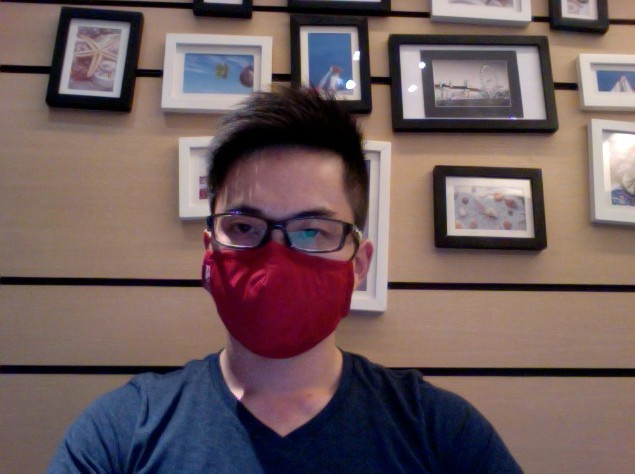face_mask: (203, 149, 356, 360)
